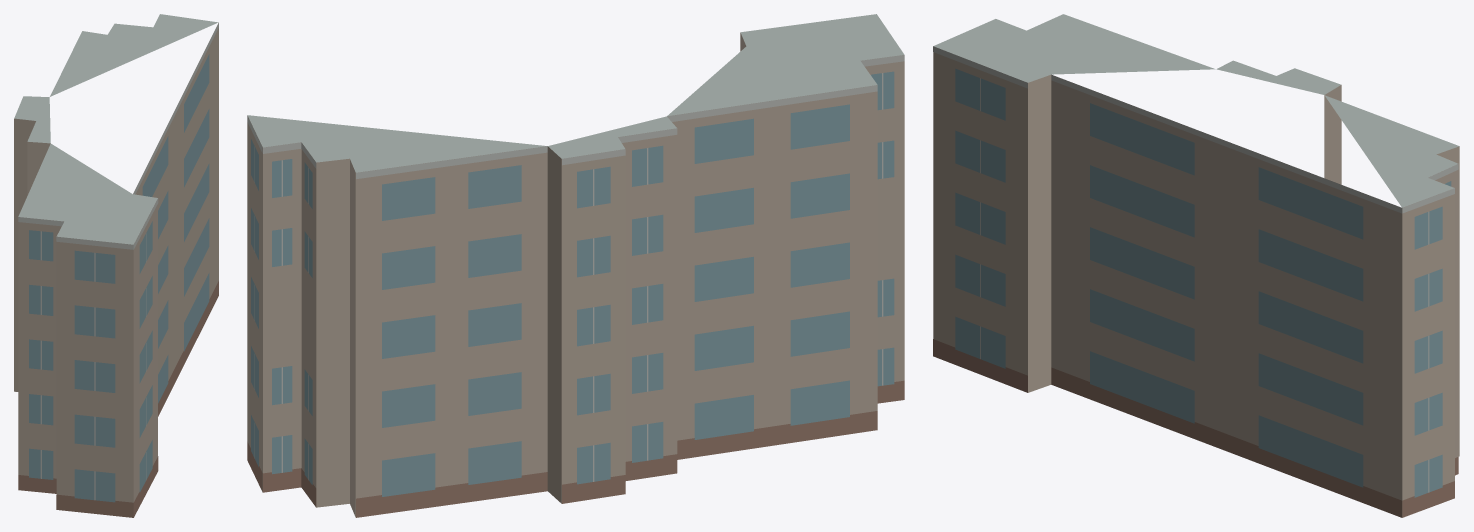
File: survey-upis-32758132.glb
The picture shows the model from 3 angles, left to right: view 1: azimuth 30°, elevation 25°; view 2: azimuth 150°, elevation 25°; view 3: azimuth 270°, elevation 25°; orthographic projection. The views are drawn at different scales.
Visible parts, largest first — view 1: survey-upis-32758132.tmp; view 2: survey-upis-32758132.tmp; view 3: survey-upis-32758132.tmp.
Boxes of the visible parts, box(x1,y1,x2,y2) form: survey-upis-32758132.tmp: box(14, 14, 218, 517); survey-upis-32758132.tmp: box(247, 14, 904, 517); survey-upis-32758132.tmp: box(933, 14, 1459, 517).
Size of the model in its own units: 17.43 by 13 by 20.01.
